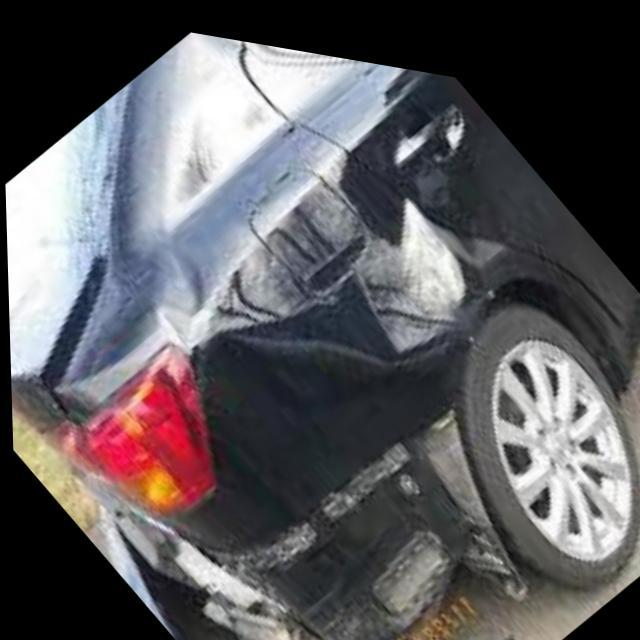no part: (93, 187, 524, 640)
